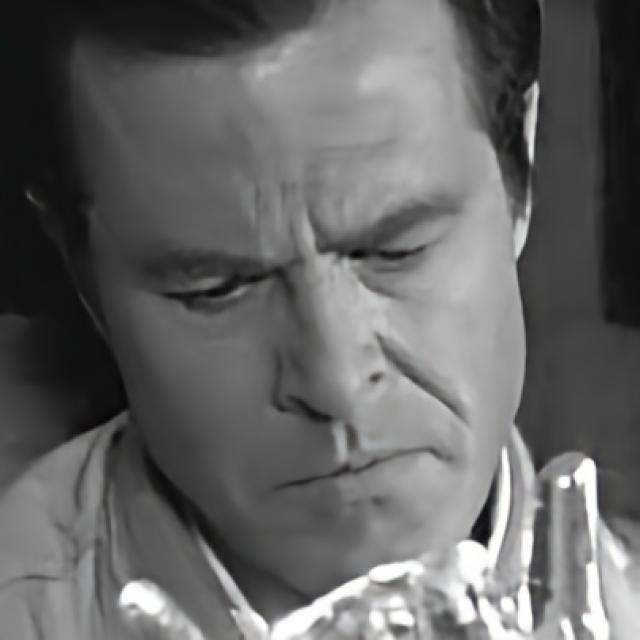anger: (103, 40, 520, 592)
